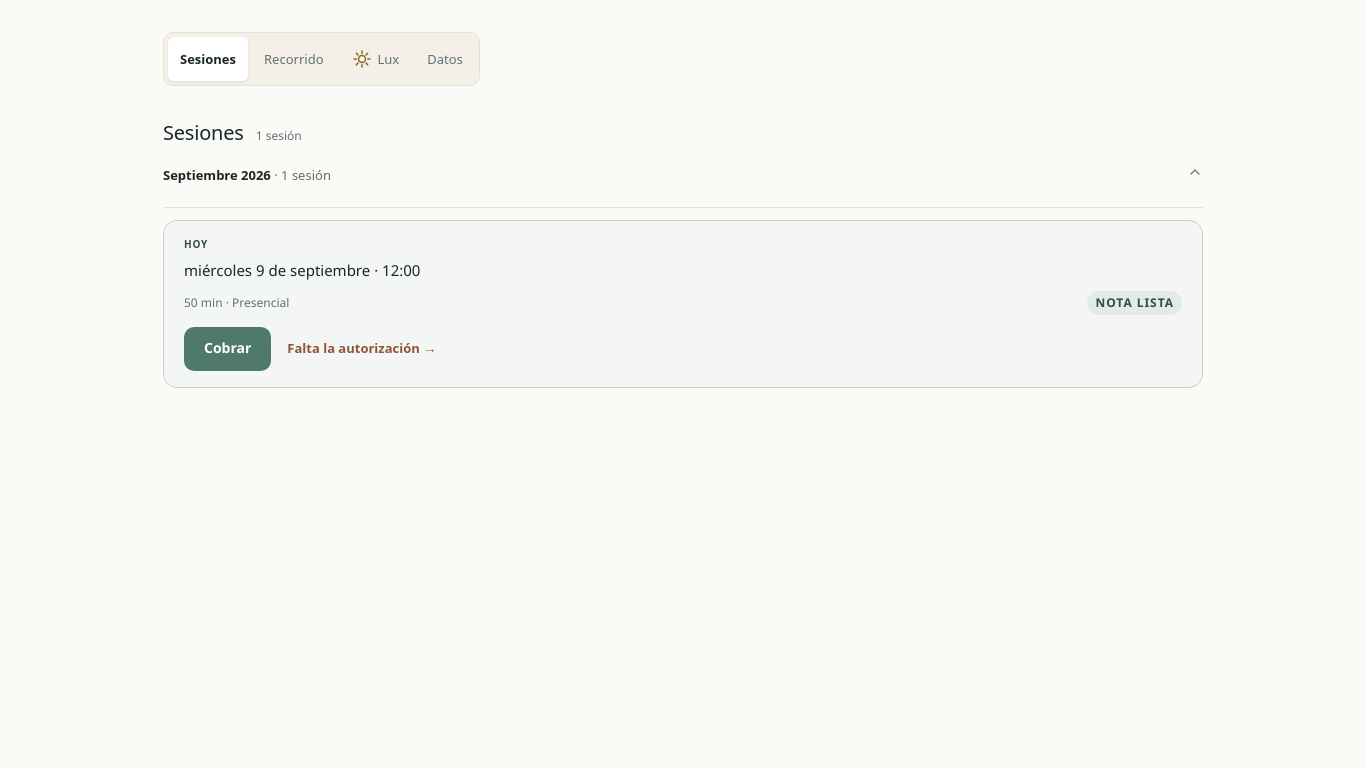
Scenario: los avisos distinguen un rechazo de una operación confirmada › cobrar desde Sesiones comunica el resultado a la ficha: éxito=true
Click the button "Cobrar". click: x=228, y=348
box: x1=184 y1=326 x2=271 y2=370
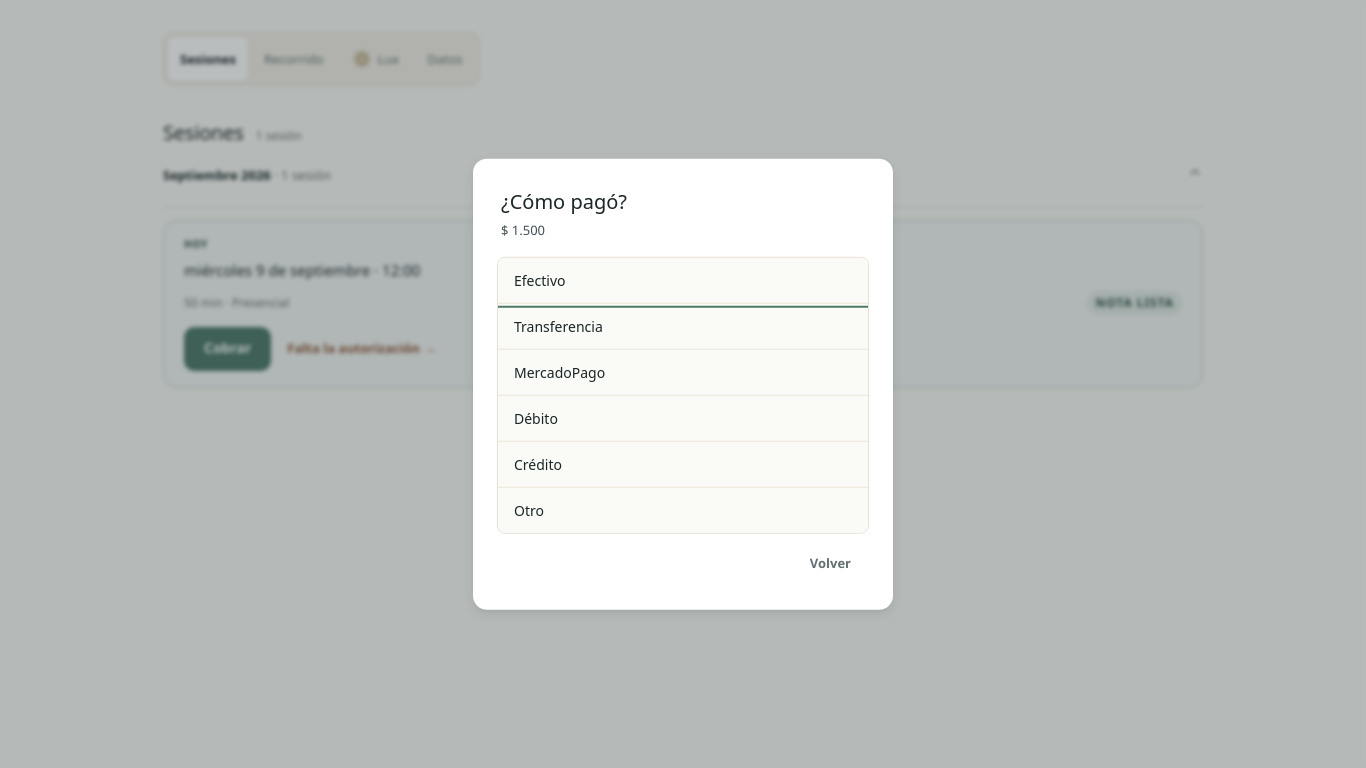
Click the button "Efectivo". click: x=540, y=280
box: x1=498 y1=257 x2=868 y2=303
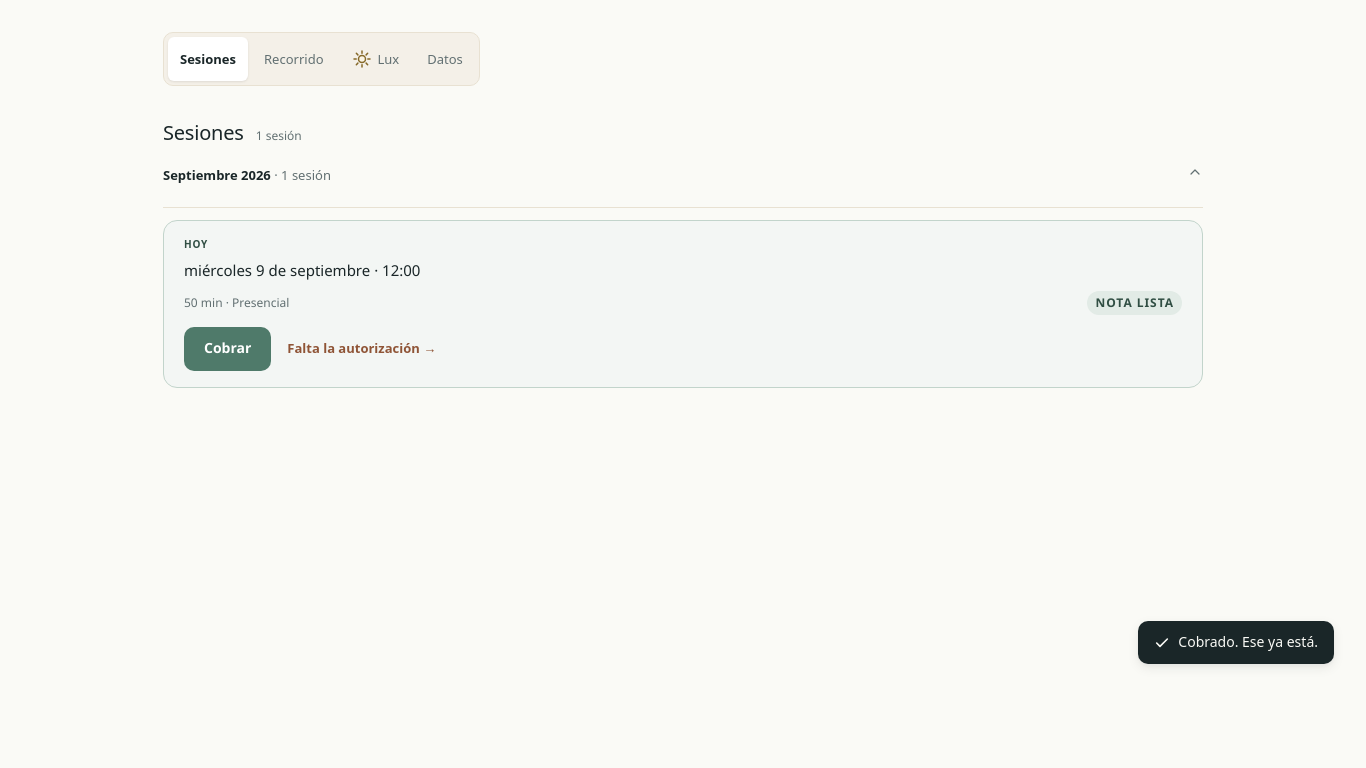
expect the message "Cobrado. Ese ya está." is shown: met, box x1=1138 y1=621 x2=1334 y2=664
